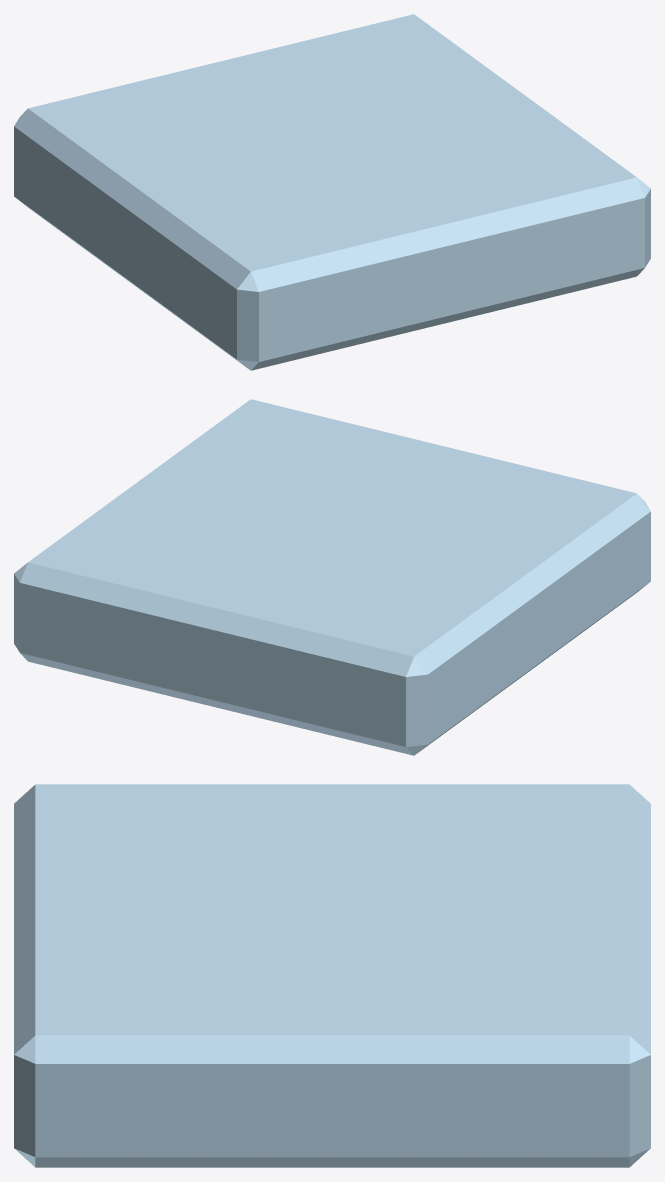
File: R4B_Plate2x2.glb
The picture shows the model from 3 angles, top to bottom: view 1: azimuth 30°, elevation 25°; view 2: azimuth 150°, elevation 25°; view 3: azimuth 270°, elevation 25°; orthographic projection. The views are drawn at different scales.
Visible parts, largest first — view 1: R4B_Plate2x2; view 2: R4B_Plate2x2; view 3: R4B_Plate2x2.
Part boxes in pixels (x1,y1,x2,y2): R4B_Plate2x2: [14, 14, 650, 370]; R4B_Plate2x2: [14, 399, 650, 755]; R4B_Plate2x2: [14, 784, 650, 1167].
Size of the model in its own units: 1.07 by 0.245 by 1.07.
